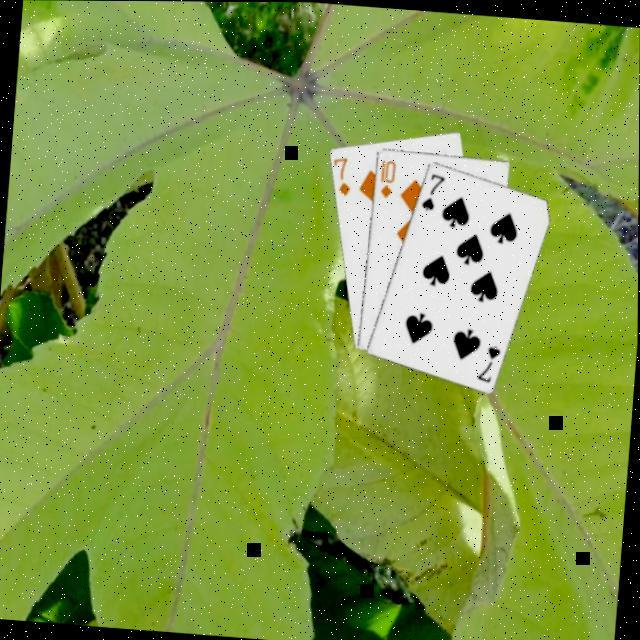10D: (374, 153, 396, 197)
7D: (327, 151, 353, 196)
7S: (416, 166, 446, 212), (472, 338, 502, 383)
